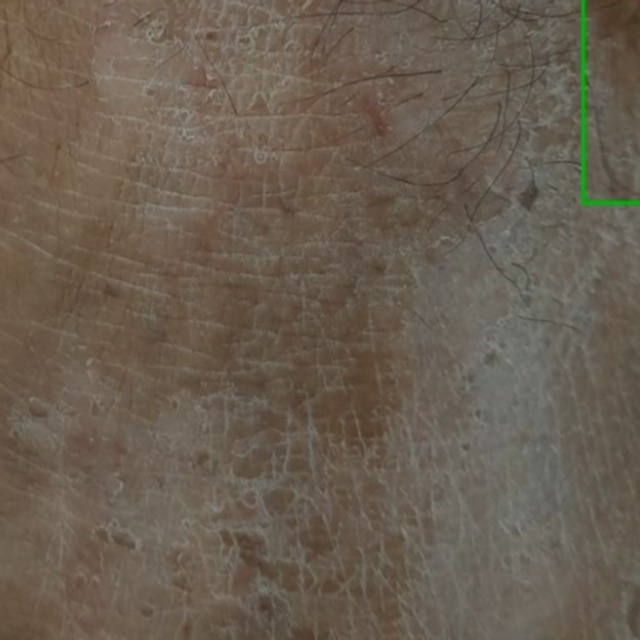Tinea Corporis: (583, 0, 639, 202)
